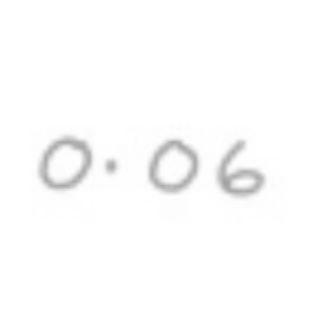.: (102, 157, 119, 177)
0: (33, 132, 96, 193), (145, 137, 202, 195)
6: (213, 136, 268, 200)
